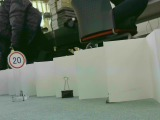speed_20: (7, 50, 26, 70)
